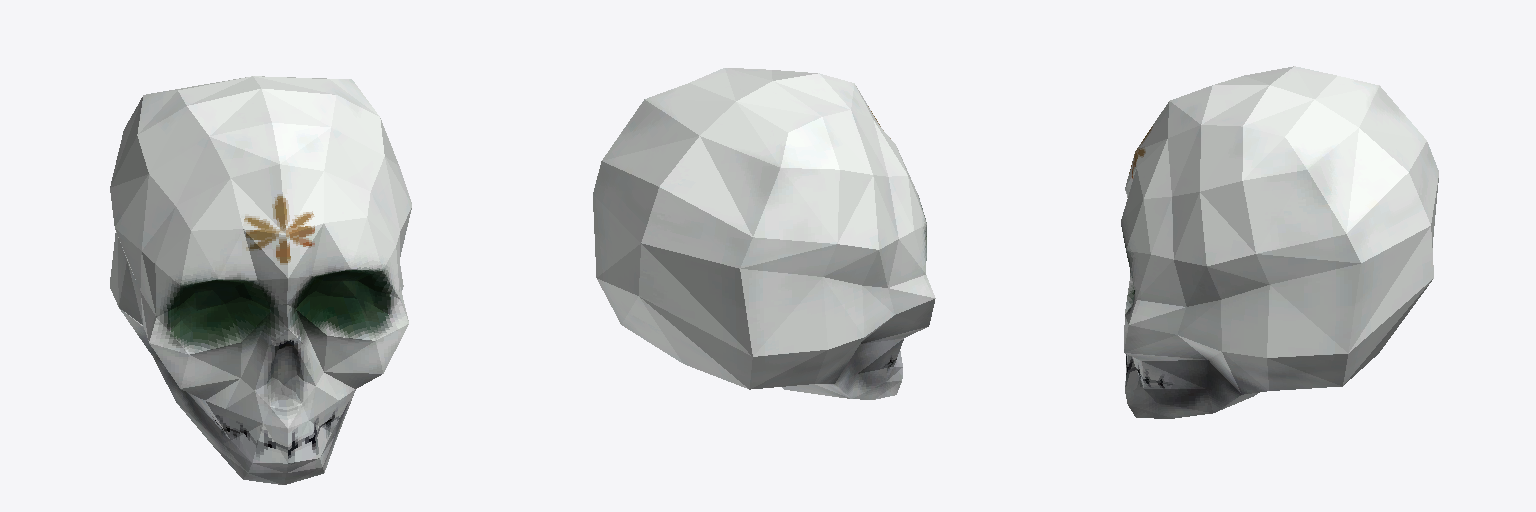
3 views of the same model, side by side, from view 1: azimuth 30°, elevation 25°; view 2: azimuth 150°, elevation 25°; view 3: azimuth 270°, elevation 25° (orthographic).
Visible parts, largest first — view 1: sugarskull; view 2: sugarskull; view 3: sugarskull.
Boxes of the visible parts, box(x1,y1,x2,y2) form: sugarskull: box(110, 76, 411, 484); sugarskull: box(593, 68, 935, 399); sugarskull: box(1121, 66, 1438, 418).
Size of the model in its own units: 407 by 484 by 409.
1 materials, 1 textured.